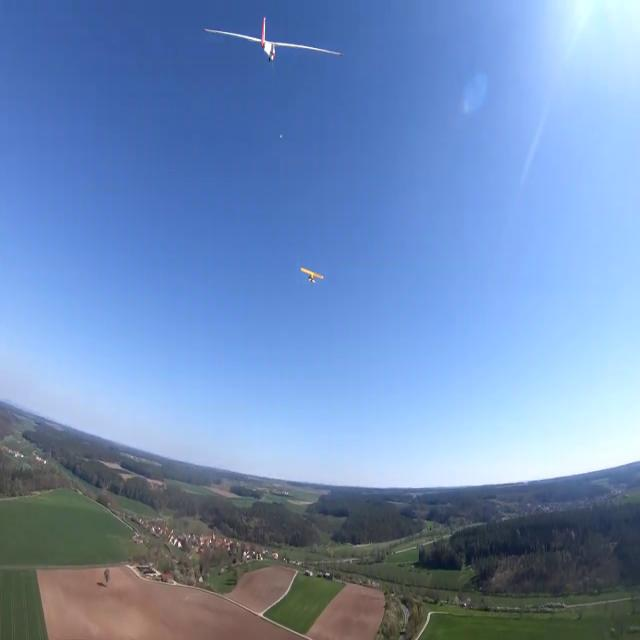iha: (202, 15, 343, 71), (301, 267, 326, 284)
